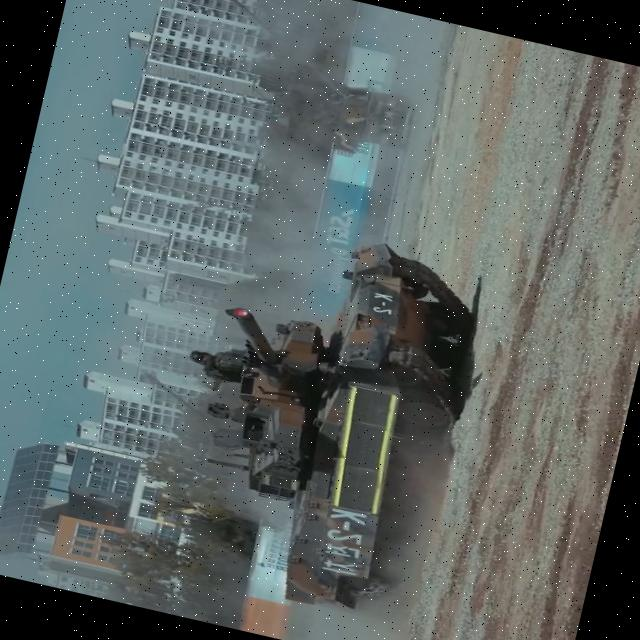korea tank: (135, 202, 500, 630)
